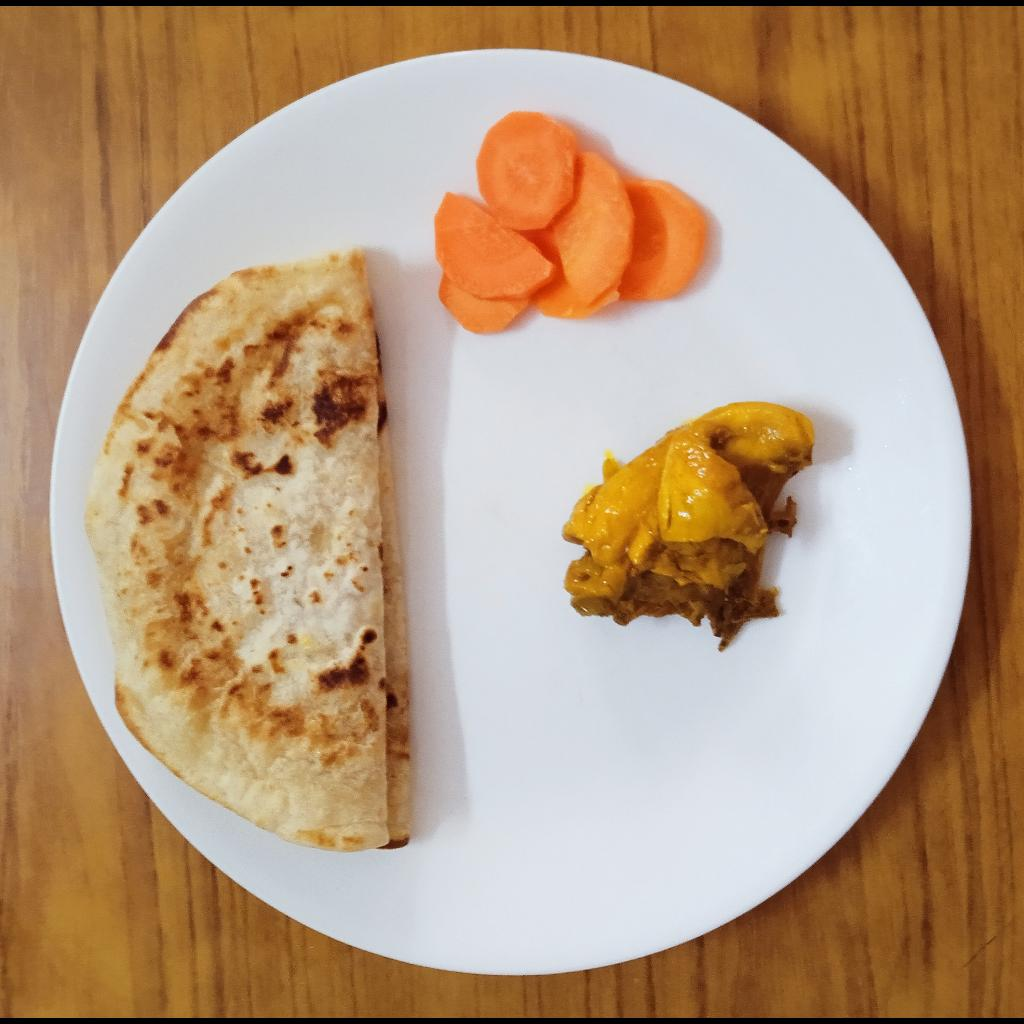carrot: (430, 104, 716, 338)
chicken: (563, 395, 812, 644)
ruti: (82, 245, 410, 851)
